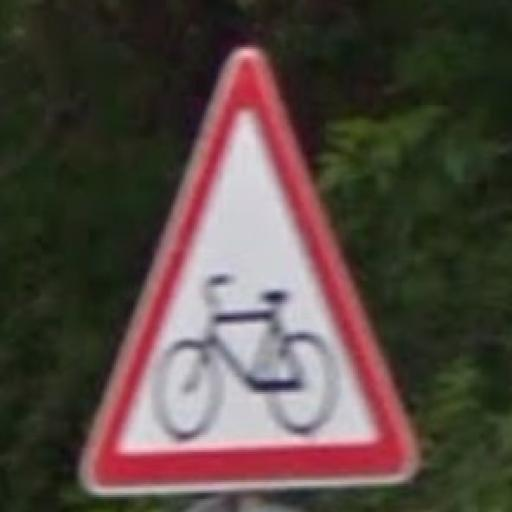traffic_sign: (74, 42, 428, 502)
